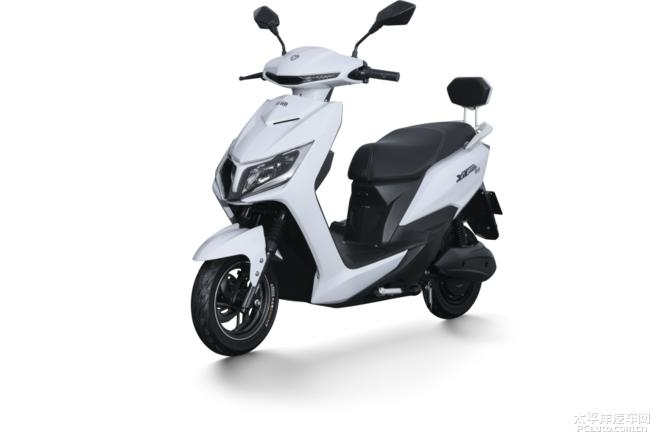电动车: (178, 1, 530, 391)
